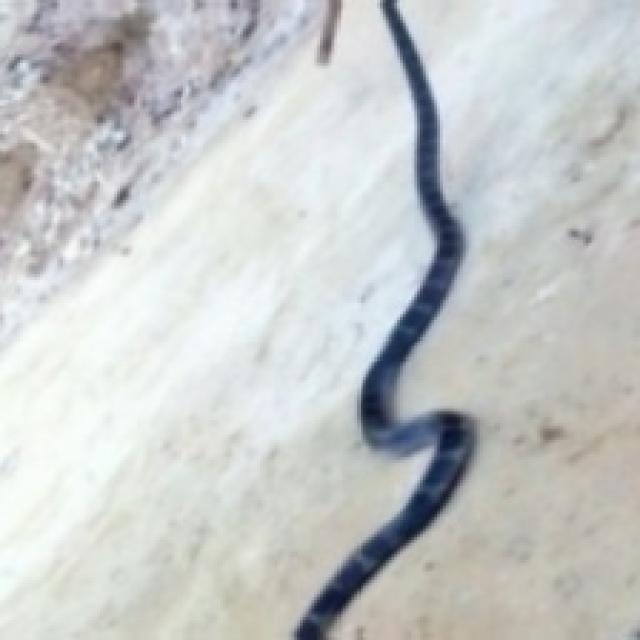king cobra: (294, 0, 471, 637)
